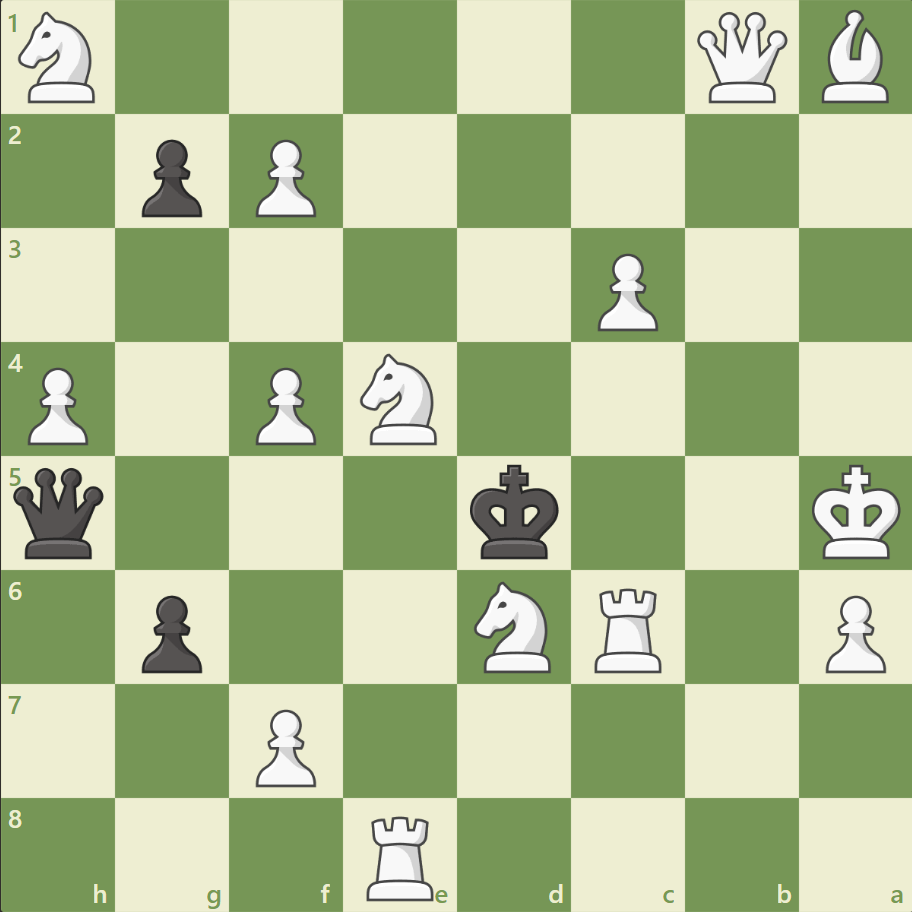B: (812, 6, 896, 109)
K: (806, 458, 906, 566)
N: (351, 348, 449, 450), (11, 7, 108, 110), (465, 575, 562, 677)
P: (247, 700, 322, 791), (247, 359, 322, 450), (20, 359, 95, 450), (247, 132, 322, 223), (815, 586, 889, 677), (588, 246, 662, 337)
Q: (691, 9, 790, 108)
R: (587, 579, 670, 676), (360, 806, 442, 904)
k: (465, 458, 565, 566)
p: (133, 586, 208, 677), (133, 132, 208, 223)
q: (10, 463, 109, 562)
